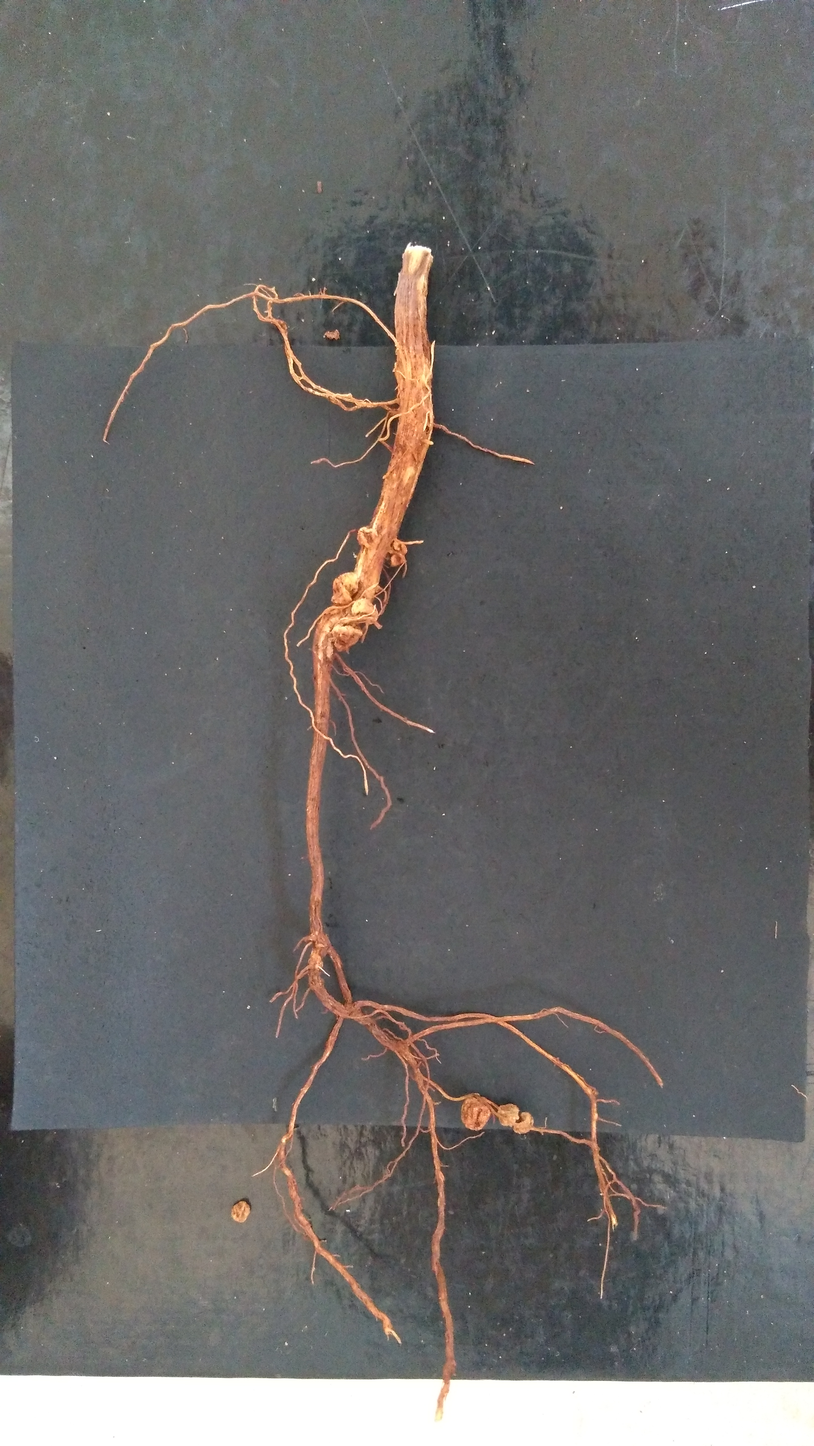nodule: (462, 1093, 491, 1129), (331, 623, 362, 652), (331, 572, 359, 604), (315, 606, 345, 635), (351, 599, 378, 625), (386, 539, 407, 567), (498, 1104, 519, 1126), (512, 1112, 534, 1133), (307, 944, 324, 971), (357, 527, 378, 547), (231, 1201, 251, 1222), (363, 588, 375, 598)
